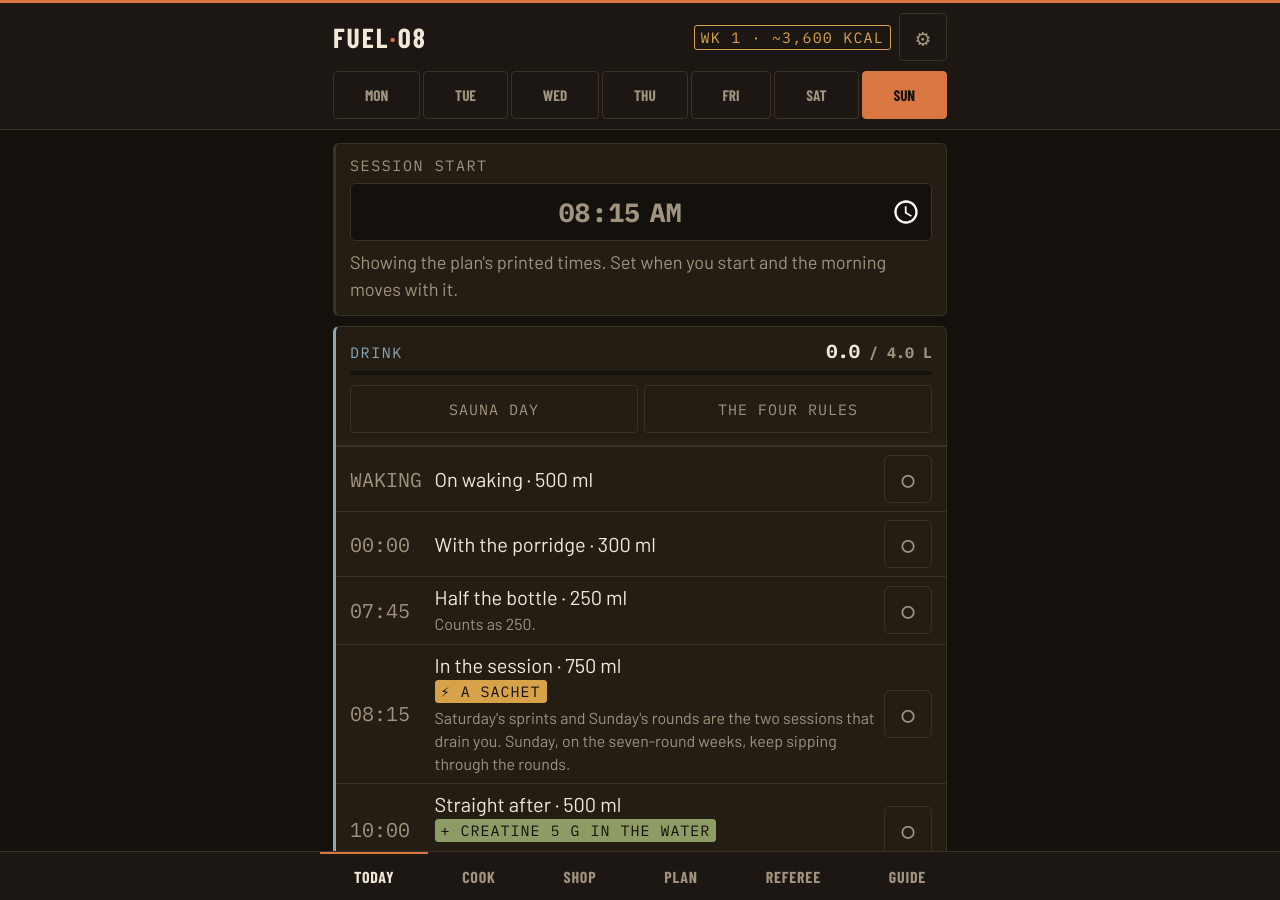
Test: Fuel · Optimal 8 Fighter › gives the GUIDE tab the guide document and today's live panel
The width and height of the screenshot is (1280, 900).
Click the button "GUIDE" at (907,876), box [855,852,960,899]
(page scrolled)
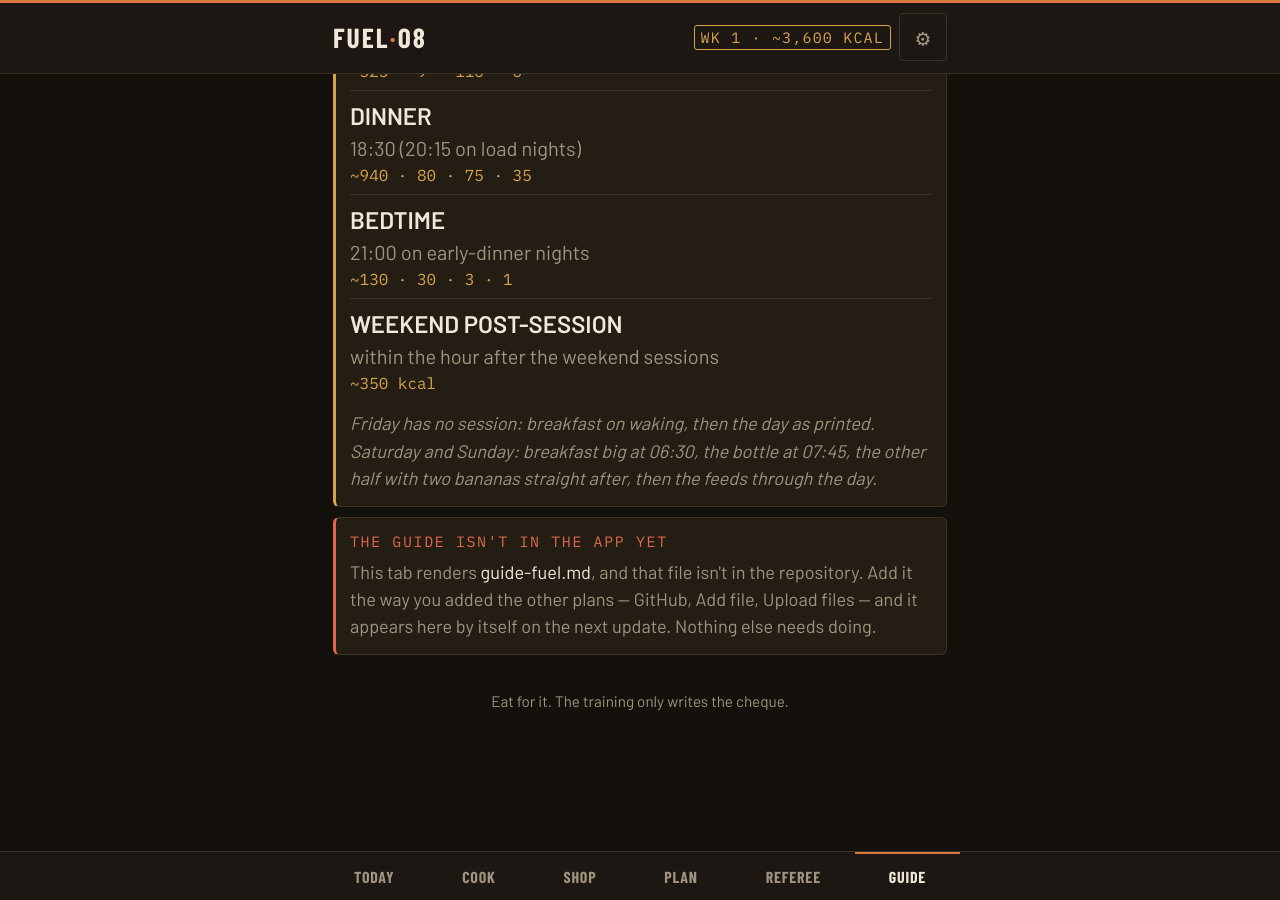
Result: the text "guide-fuel.md" is shown at [481,561,591,583]
